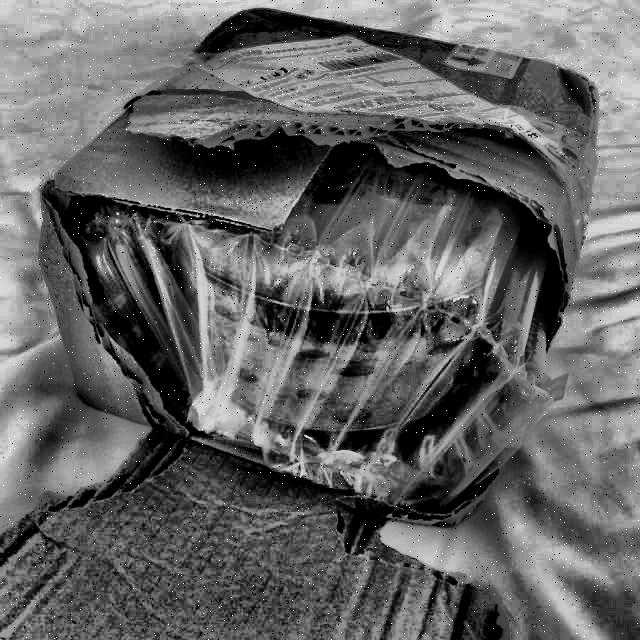box: (9, 0, 609, 530)
hole: (69, 144, 531, 513)
